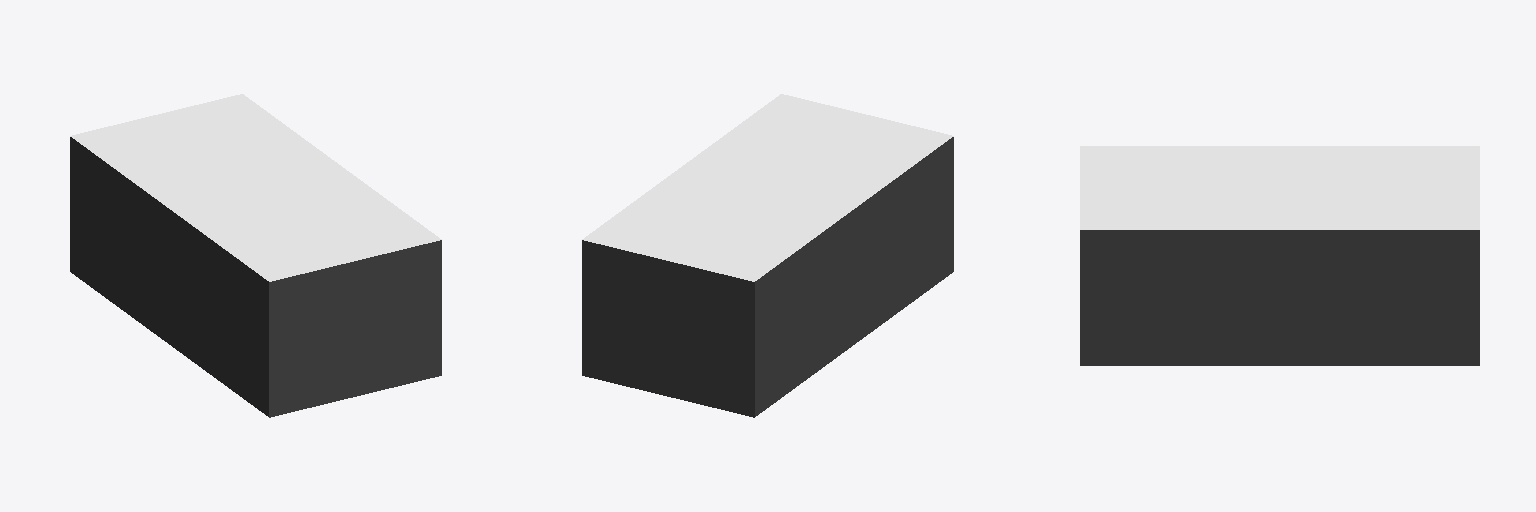
Rendered from scratches.obj.
3 renders of one model, left to right at view 1: azimuth 30°, elevation 25°; view 2: azimuth 150°, elevation 25°; view 3: azimuth 270°, elevation 25°, orthographic.
Parts seen in each view (by area): view 1: Walls; view 2: Walls; view 3: Walls.
Boxes of the visible parts, box(x1,y1,x2,y2) form: Walls: box(70, 94, 441, 417); Walls: box(582, 94, 953, 417); Walls: box(1080, 146, 1479, 365).
Size of the model in its own units: 4 by 3.01 by 8.